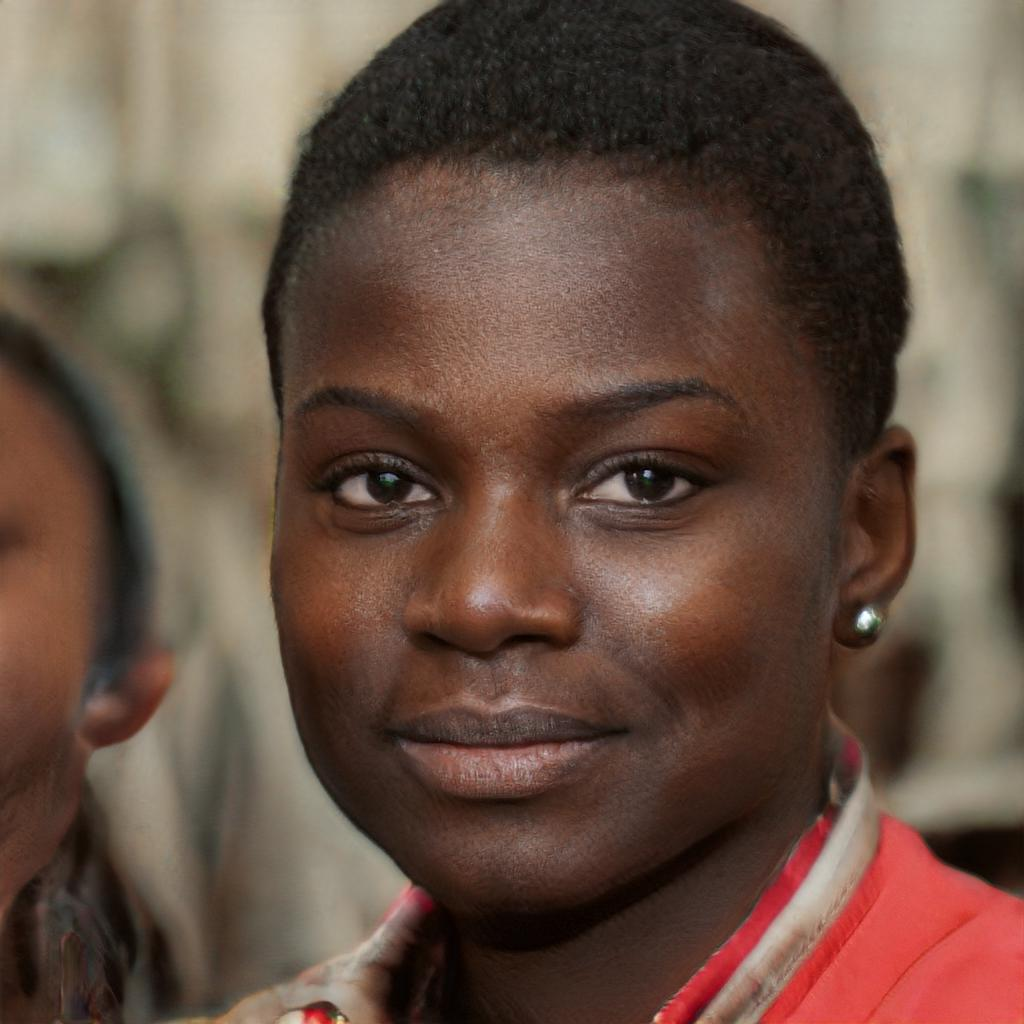face: (270, 171, 834, 917)
